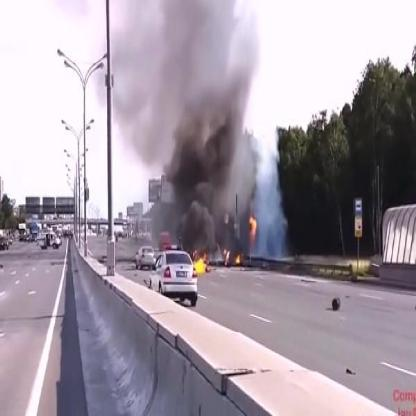fire: (221, 245, 244, 266), (194, 250, 212, 274), (247, 213, 258, 244)
